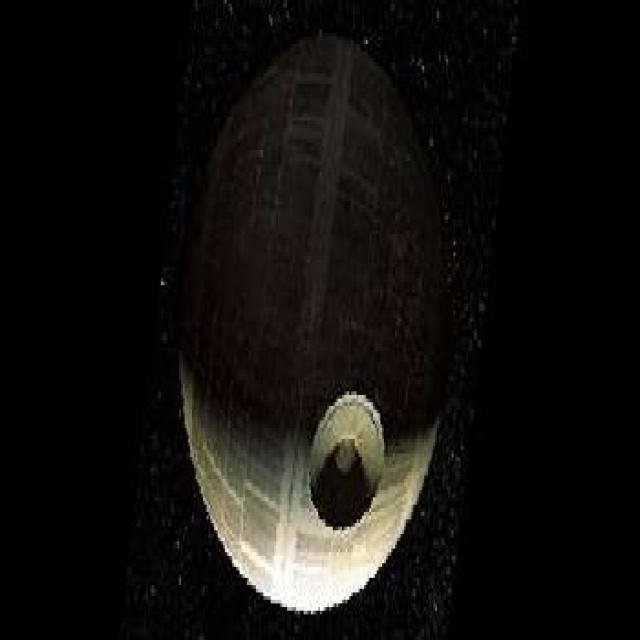Death Star: (181, 44, 454, 615)
